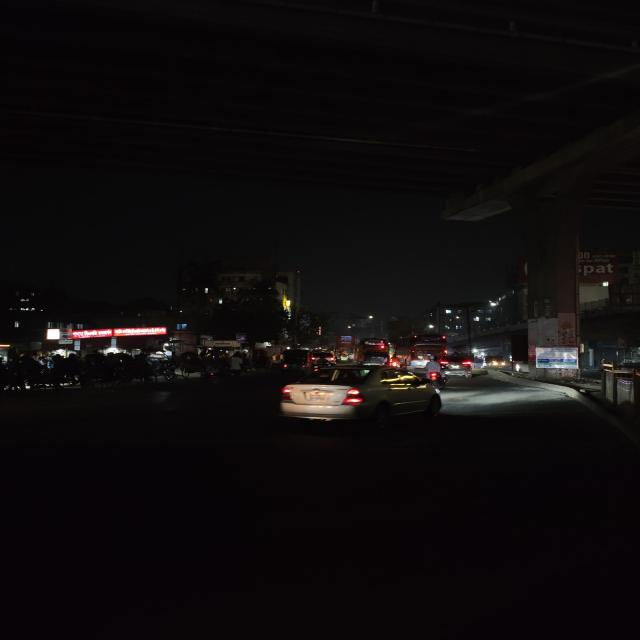bus: (409, 334, 448, 367)
car: (273, 364, 451, 432), (439, 354, 474, 378)
cng: (280, 347, 310, 373), (479, 354, 508, 370)
motorcycle: (422, 358, 449, 389)
rickshaw: (109, 352, 159, 388), (200, 349, 232, 384), (178, 350, 204, 379), (250, 347, 272, 371)
